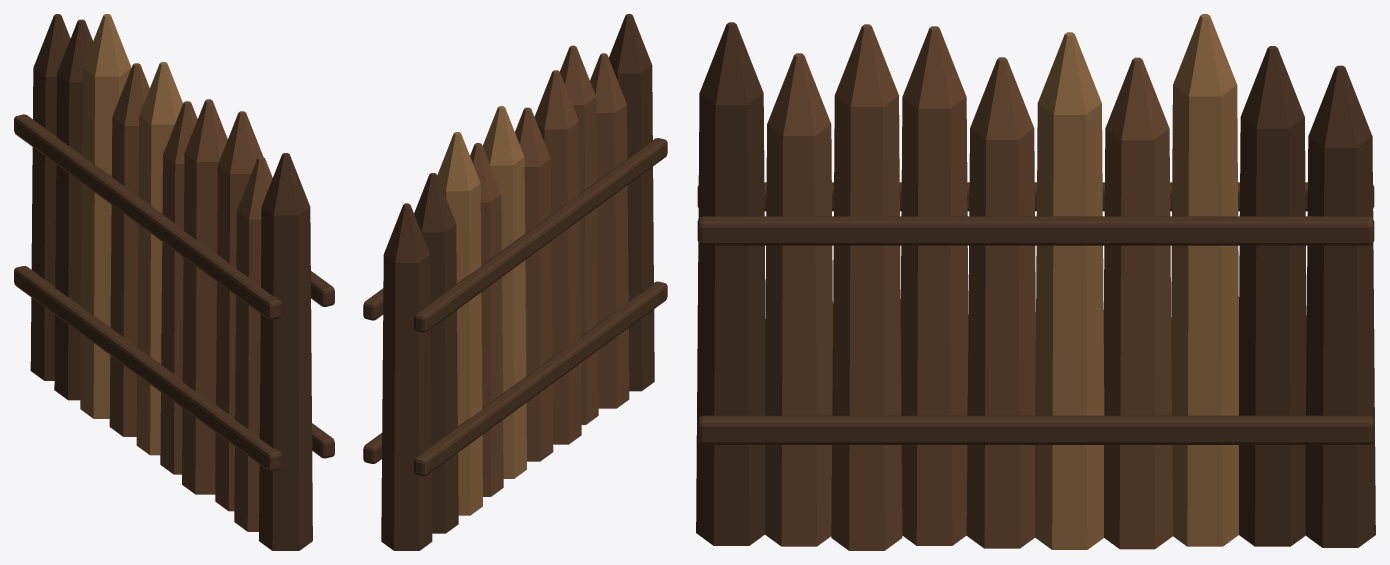
Rendered from palissade.glb.
3 views of the same model, side by side, from view 1: azimuth 30°, elevation 25°; view 2: azimuth 150°, elevation 25°; view 3: azimuth 270°, elevation 25° (orthographic). The views are drawn at different scales.
Parts seen in each view (by area): view 1: palissade; view 2: palissade; view 3: palissade.
Part boxes in pixels (x1=…): palissade: x1=14, y1=14, x2=334, y2=550; palissade: x1=363, y1=14, x2=667, y2=550; palissade: x1=696, y1=14, x2=1375, y2=550.
Size of the model in its own units: 0.6 by 3.38 by 4.02.
